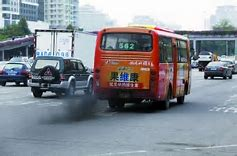smoke: (41, 94, 103, 126)
